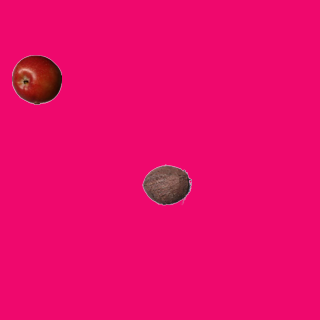Apple Braeburn: (11, 54, 61, 104)
Cocos: (141, 159, 191, 209)
